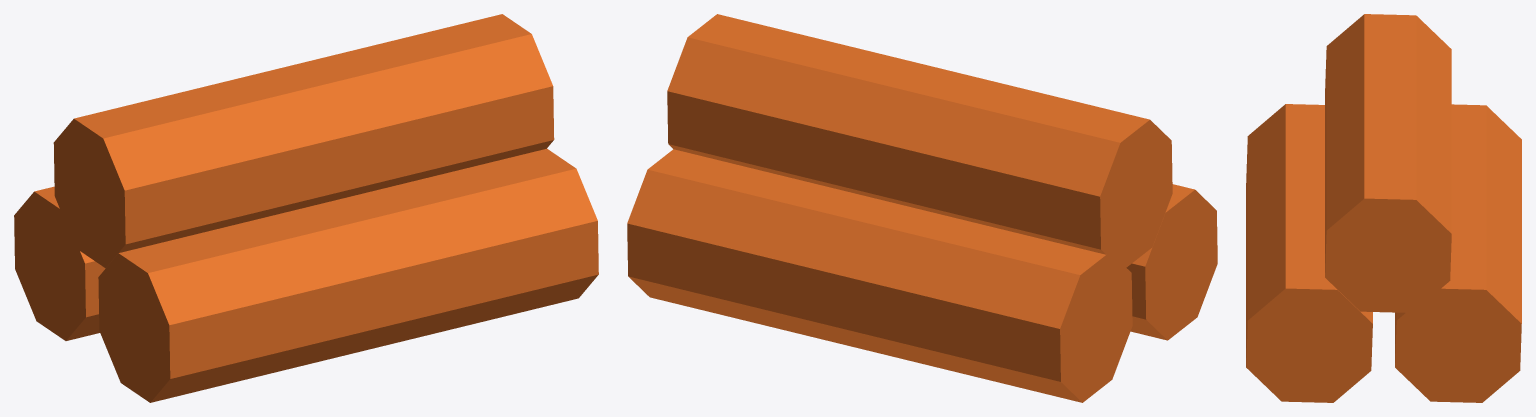
Rendered from fireLogs.glb.
The picture shows the model from 3 angles, left to right: view 1: azimuth 30°, elevation 25°; view 2: azimuth 150°, elevation 25°; view 3: azimuth 270°, elevation 25°; orthographic projection. The views are drawn at different scales.
Parts seen in each view (by area): view 1: Logs; view 2: Logs; view 3: Logs.
Part boxes in pixels (<box>): Logs: <box>14,14,598,402</box>; Logs: <box>627,14,1217,402</box>; Logs: <box>1246,14,1521,402</box>.
Bounding box in the file's own units: 2.08 × 1.07 × 1.31.
